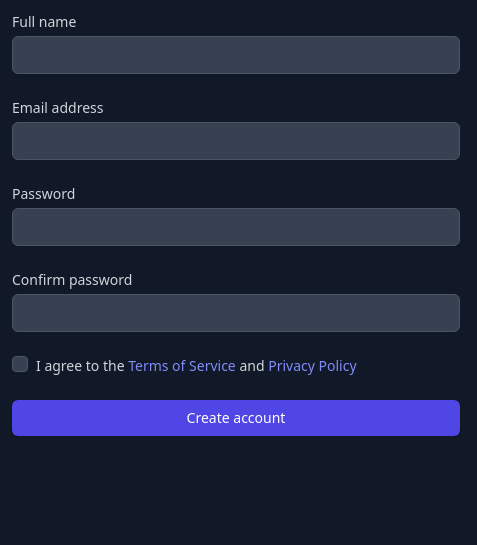
Test: RegisterForm › Form Validation › validates email field
Type "John Doe" into the field with id "name".
click(236, 55); type("John Doe")  # box [12, 36, 460, 74]
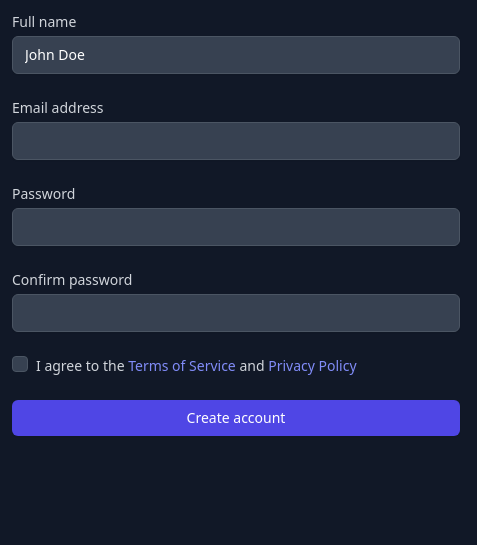
Submit the form
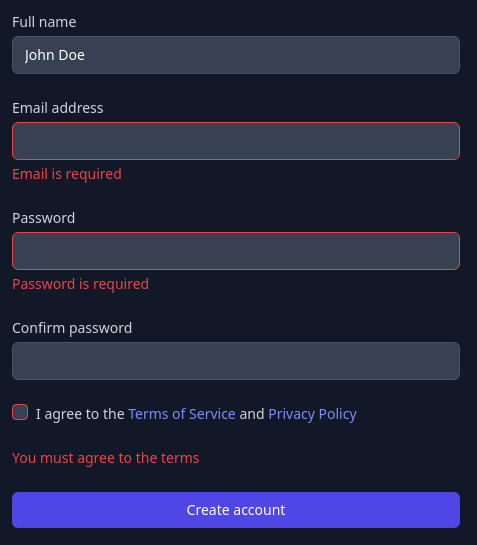
Now the text "Email is required" is shown, box [12, 164, 122, 183]
// Test invalid email
Type "invalid-email" into the field with id "email".
click(236, 141); type("invalid-email")  # box [12, 122, 460, 160]
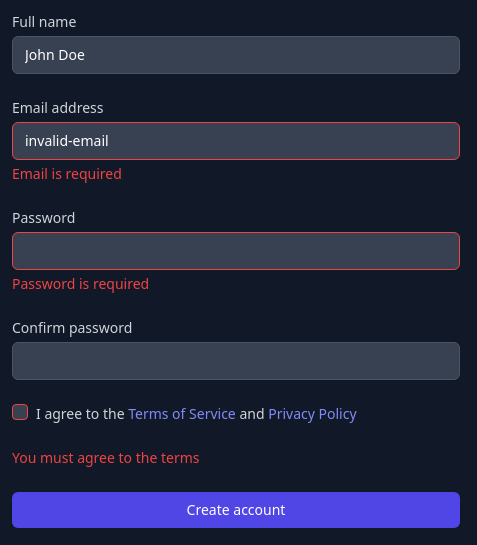
Submit the form
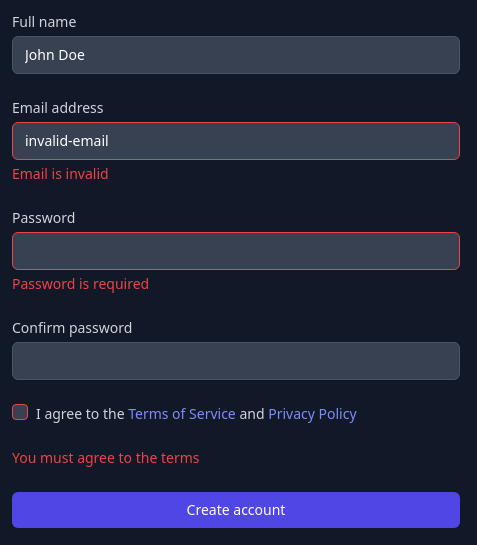
Now the text "Email is invalid" is shown, box [12, 164, 109, 183]
